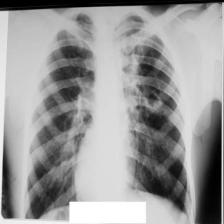tuberculosis: (22, 9, 195, 221)
